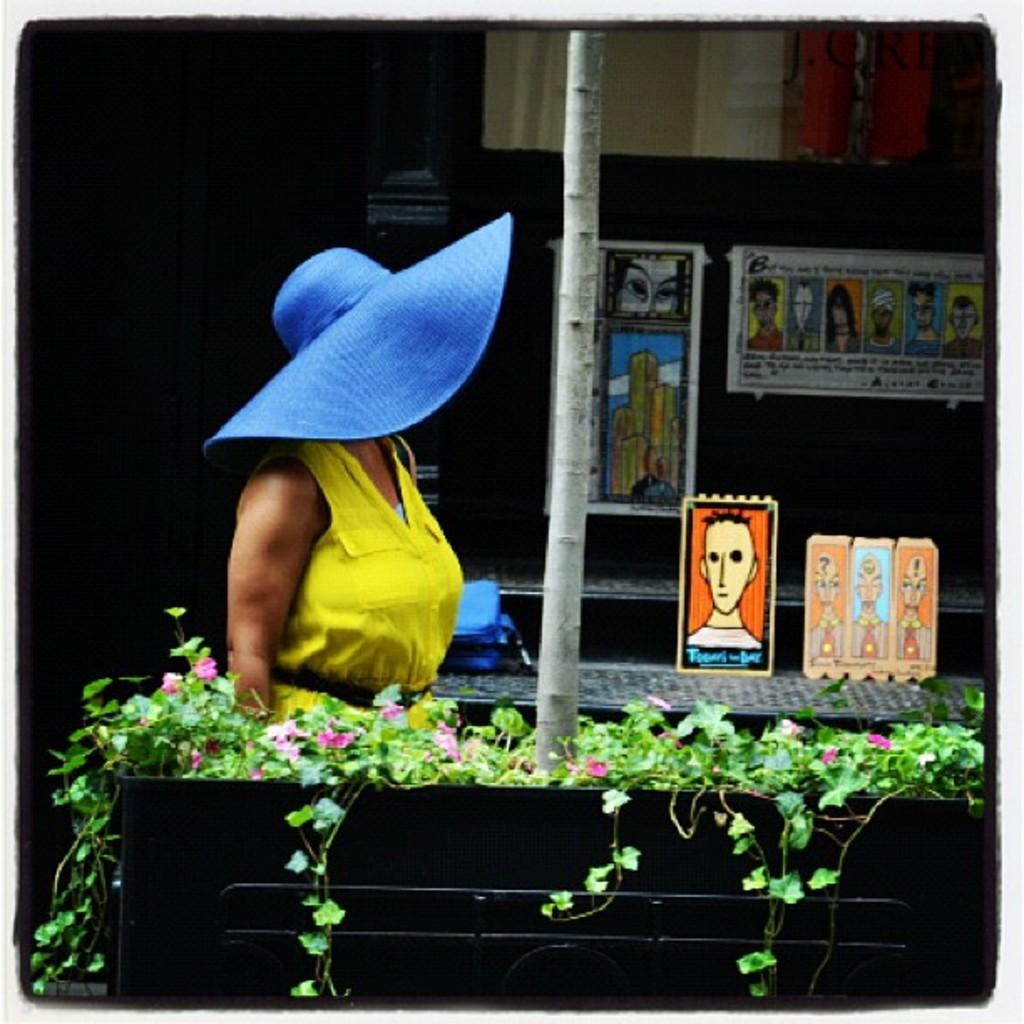Hat: (198, 209, 514, 463)
